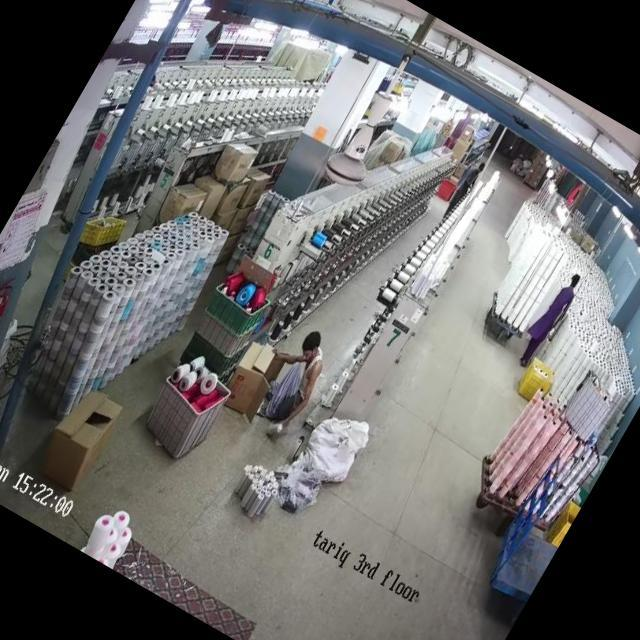person: (250, 318, 347, 443), (514, 268, 586, 373), (446, 158, 489, 216)
